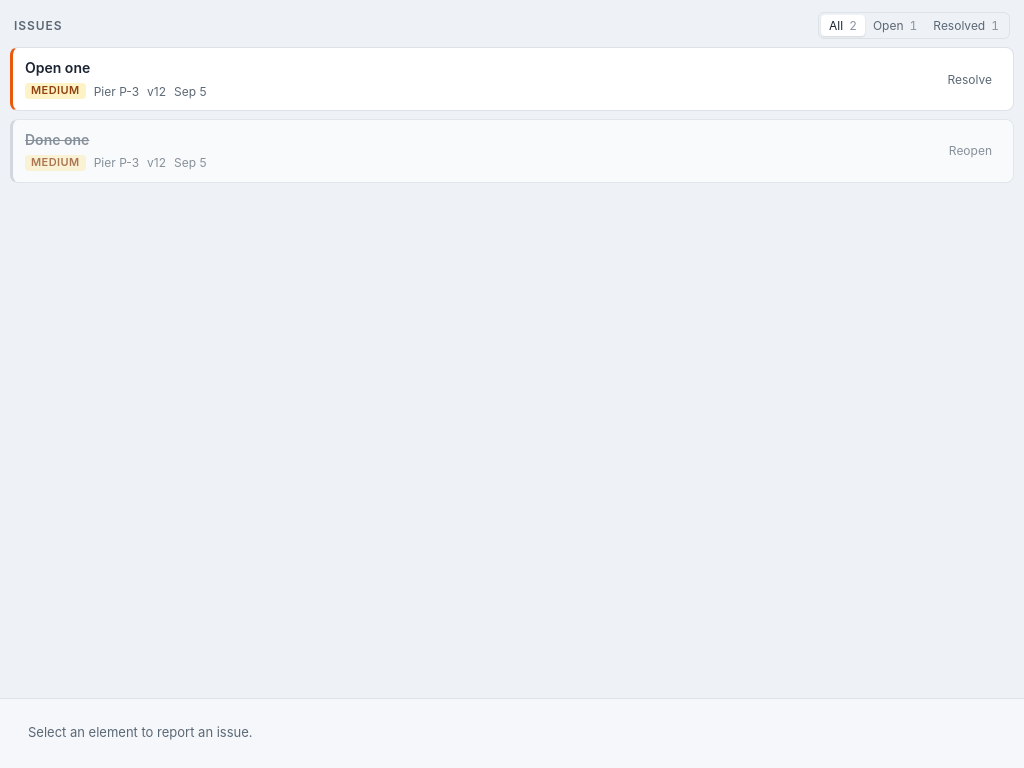
Test: IssuePanel › filters issues by status
Click the tab with test id "issue-filter-resolved" at x=966, y=26, box [925,15,1007,36]
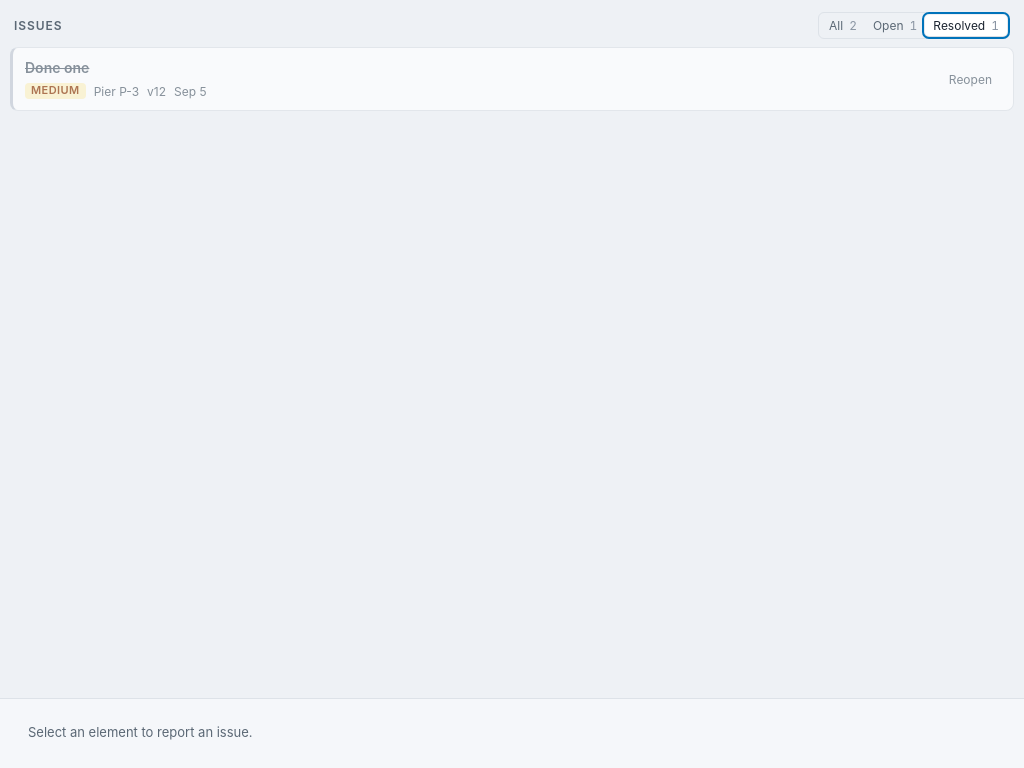
Expected: the text "Done one" is shown, [25,58,89,79]
Click the tab with test id "issue-filter-open" at x=895, y=26, box [865,15,925,36]
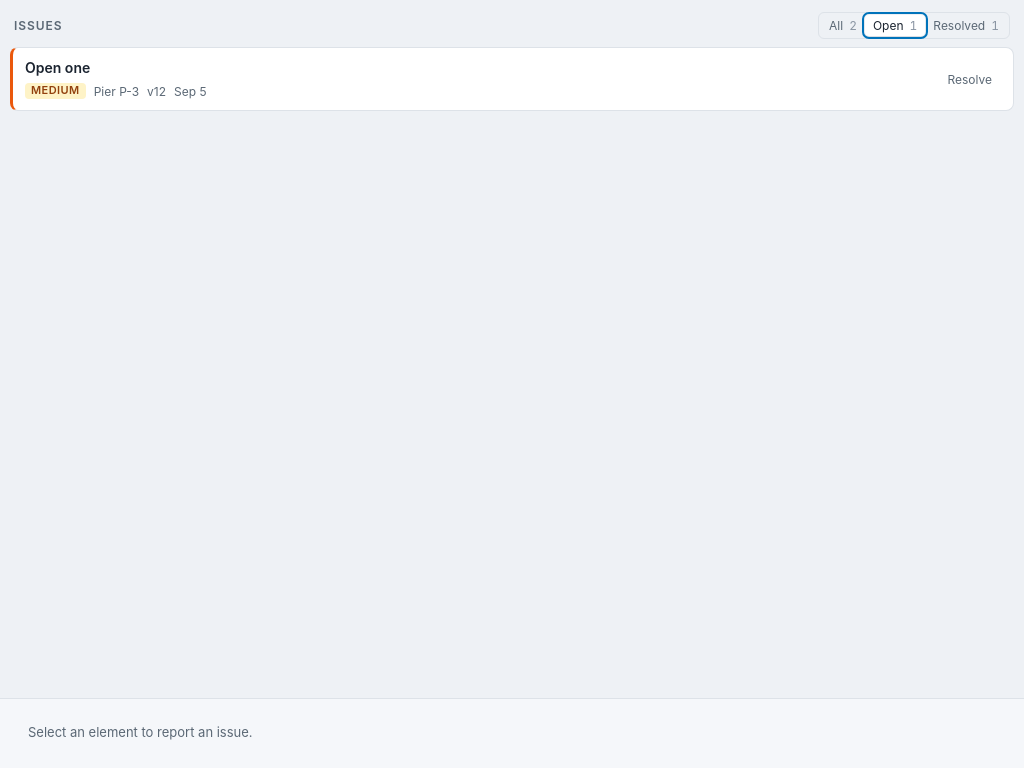
Now the text "Open one" is shown, box [25,58,90,79]
